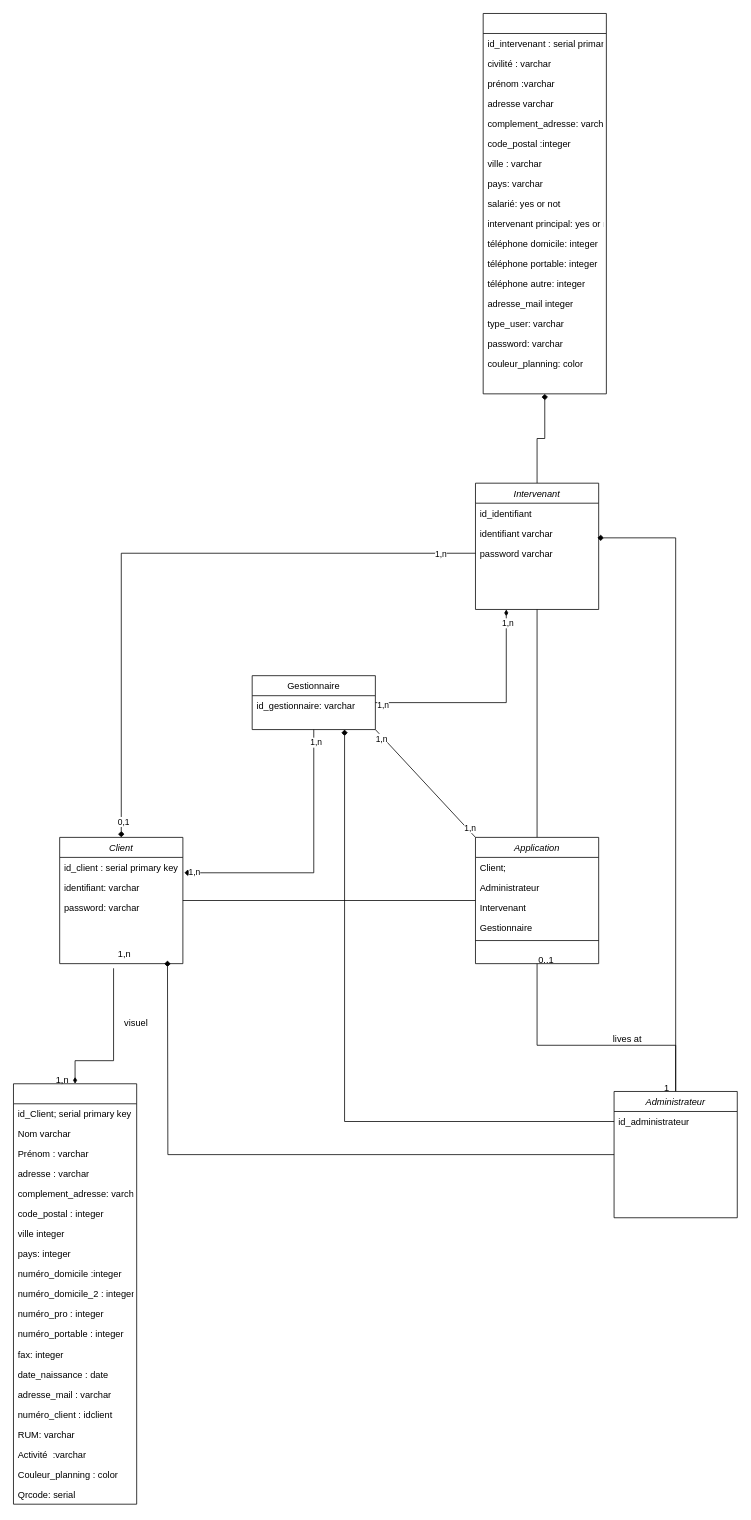
Image size: 751x1520. Some labels were removed from this diagram. Here are the shapes that lost their labels. From the top down, the box of each, then its label:
(482, 13, 606, 394): fiche_Intervenant
(13, 1083, 137, 1504): fiche_Client
